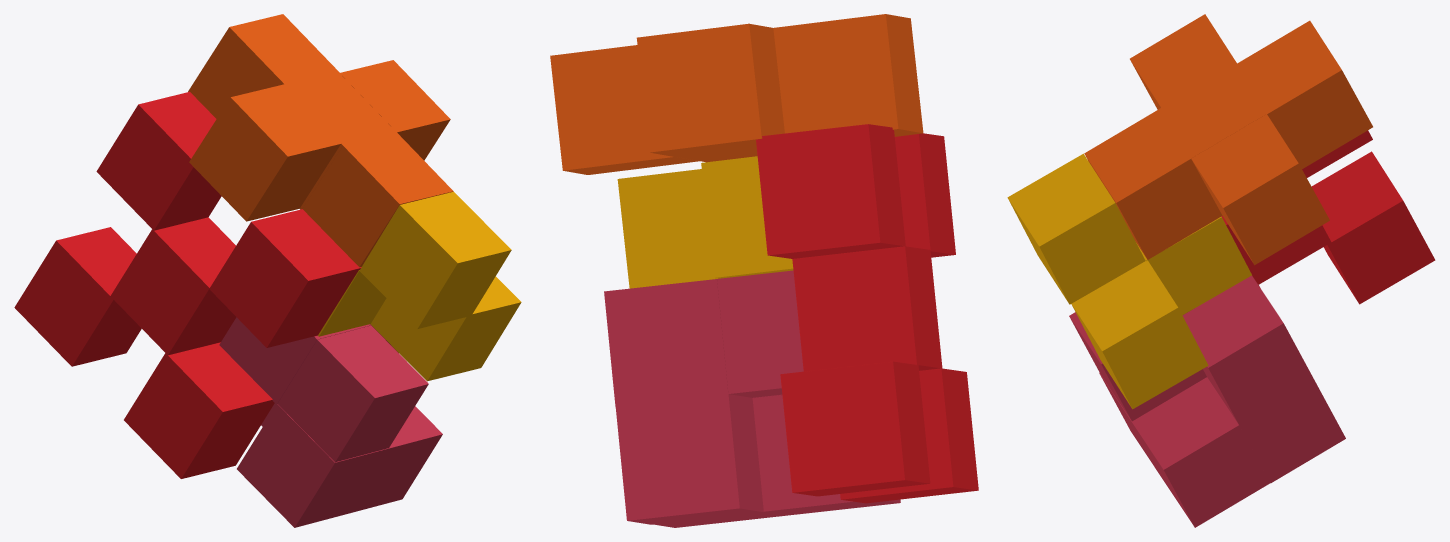
The picture shows the model from 3 angles, left to right: view 1: azimuth 30°, elevation 25°; view 2: azimuth 150°, elevation 25°; view 3: azimuth 270°, elevation 25°; orthographic projection. The views are drawn at different scales.
Visible parts, largest first — view 1: node_id67, node_id60, node_id110, node_id92, node_id34, node_id98, node_id104, node_id86, node_id55, node_id24, node_id45, node_id79 (+5 smaller); view 2: node_id104, node_id86, node_id14, node_id45, node_id98, node_id60, node_id9, node_id50, node_id79, node_id29, node_id73, node_id92 (+4 smaller); view 3: node_id67, node_id19, node_id50, node_id79, node_id55, node_id9, node_id45, node_id104, node_id14, node_id73, node_id60, node_id40 (+3 smaller).
Part boxes in pixels (x1=…): node_id67: x1=359, y1=191, x2=511, y2=328; node_id60: x1=189, y1=84, x2=341, y2=221; node_id110: x1=209, y1=209, x2=361, y2=347; node_id92: x1=124, y1=342, x2=274, y2=478; node_id34: x1=277, y1=325, x2=428, y2=462; node_id98: x1=110, y1=217, x2=236, y2=355; node_id104: x1=14, y1=227, x2=141, y2=366; node_id86: x1=96, y1=91, x2=221, y2=230; node_id55: x1=303, y1=132, x2=453, y2=267; node_id24: x1=237, y1=404, x2=388, y2=527; node_id45: x1=188, y1=14, x2=340, y2=118; node_id79: x1=370, y1=276, x2=521, y2=381; node_id104: x1=780, y1=361, x2=930, y2=496; node_id86: x1=756, y1=124, x2=905, y2=258; node_id14: x1=615, y1=394, x2=763, y2=524; node_id45: x1=636, y1=23, x2=784, y2=156; node_id98: x1=792, y1=246, x2=942, y2=371; node_id60: x1=773, y1=14, x2=923, y2=136; node_id9: x1=604, y1=279, x2=728, y2=406; node_id50: x1=550, y1=45, x2=699, y2=174; node_id79: x1=617, y1=169, x2=717, y2=288; node_id29: x1=717, y1=270, x2=803, y2=397; node_id73: x1=701, y1=156, x2=793, y2=278; node_id92: x1=840, y1=368, x2=978, y2=503; node_id67: x1=1007, y1=153, x2=1145, y2=304; node_id19: x1=1131, y1=377, x2=1270, y2=527; node_id50: x1=1191, y1=114, x2=1329, y2=265; node_id79: x1=1071, y1=260, x2=1208, y2=409; node_id55: x1=1084, y1=109, x2=1222, y2=259; node_id9: x1=1182, y1=275, x2=1314, y2=425; node_id45: x1=1234, y1=20, x2=1372, y2=168; node_id104: x1=1311, y1=151, x2=1435, y2=304; node_id14: x1=1240, y1=381, x2=1345, y2=482; node_id73: x1=1136, y1=216, x2=1251, y2=315; node_id60: x1=1130, y1=14, x2=1236, y2=109; node_id40: x1=1159, y1=64, x2=1265, y2=158.
Bounding box in the file's own units: 0.2233 × 0.2756 × 0.2365.
Materials: 19 (19 with a texture image).
